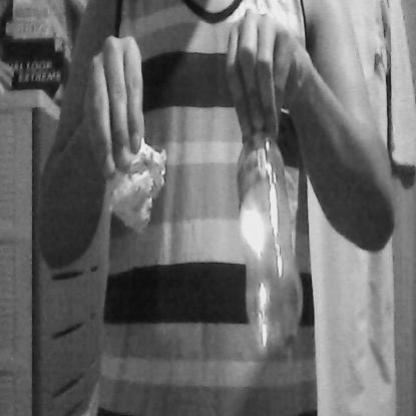Plastic Bottle: (224, 94, 309, 367)
